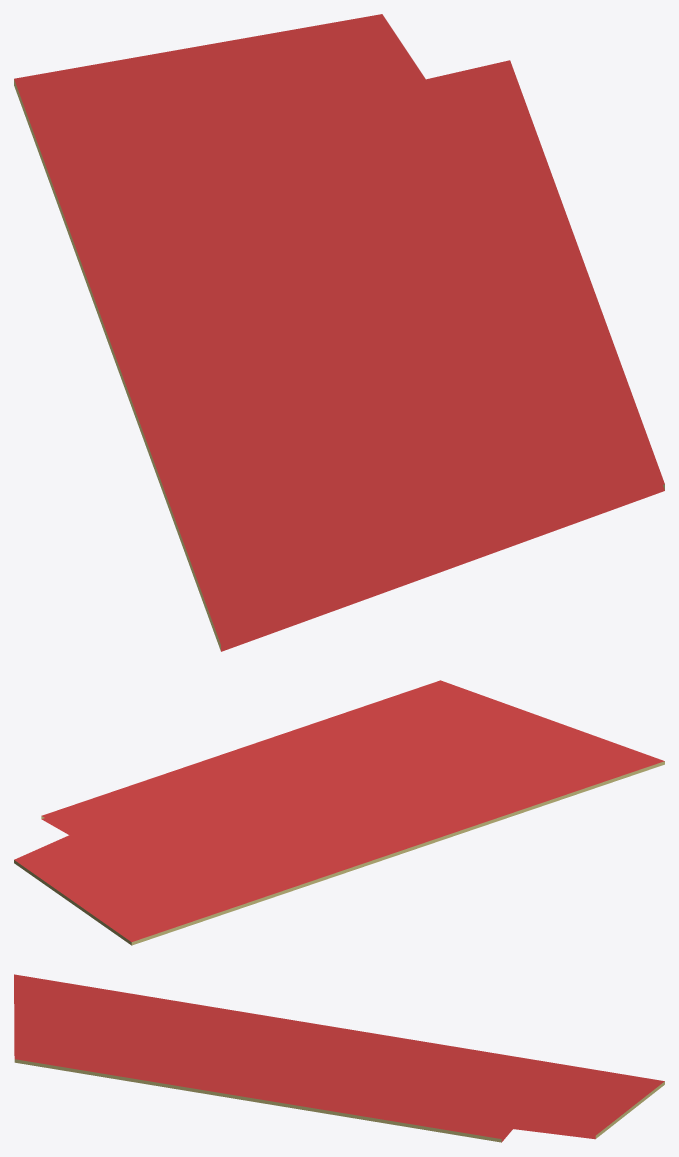
The picture shows the model from 3 angles, top to bottom: view 1: azimuth 30°, elevation 25°; view 2: azimuth 150°, elevation 25°; view 3: azimuth 270°, elevation 25°; orthographic projection. The views are drawn at different scales.
Bounding box in the file's own units: 11.85 × 17.01 × 0.875.
